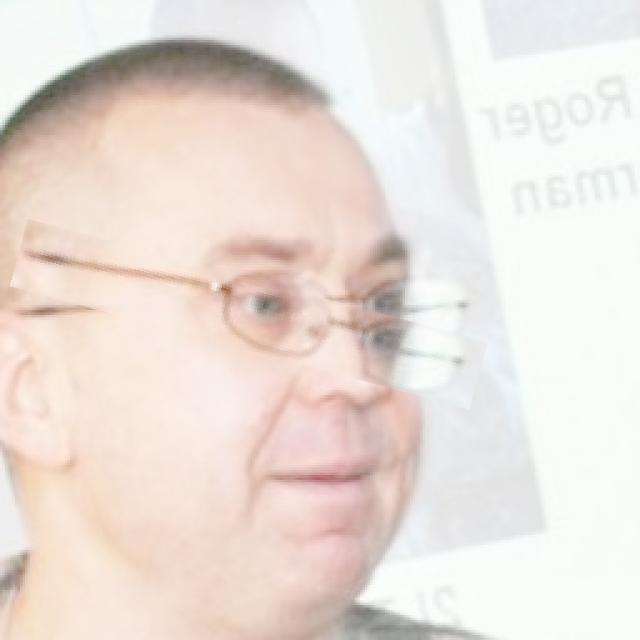glasses: (10, 249, 486, 379)
